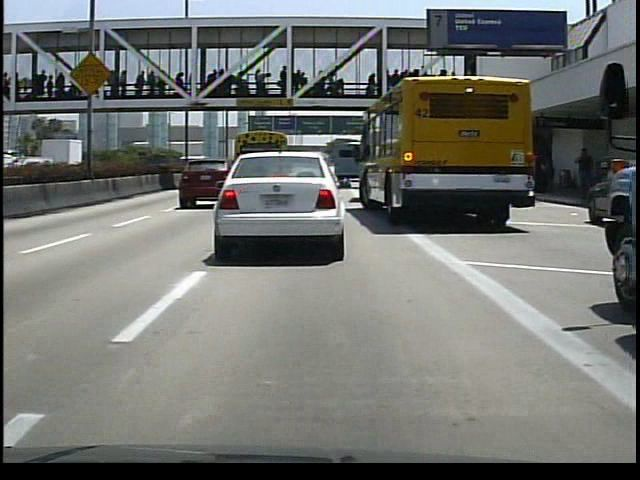person: (571, 145, 600, 207)
